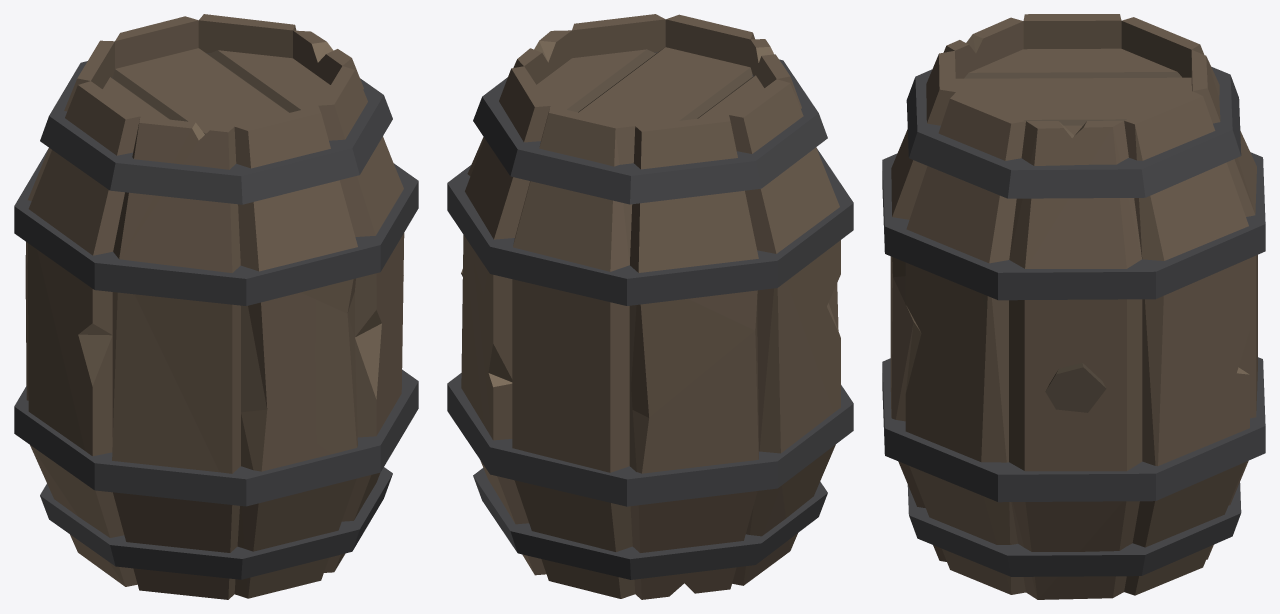
The model's file is SM_Prop_Barrel_04.glb.
3 renders of one model, left to right at view 1: azimuth 30°, elevation 25°; view 2: azimuth 150°, elevation 25°; view 3: azimuth 270°, elevation 25°, orthographic.
Parts seen in each view (by area): view 1: SM_Prop_Barrel_04; view 2: SM_Prop_Barrel_04; view 3: SM_Prop_Barrel_04.
Part boxes in pixels (left/top/right/bottom): SM_Prop_Barrel_04: left=14, top=14, right=418, bottom=599; SM_Prop_Barrel_04: left=447, top=14, right=853, bottom=599; SM_Prop_Barrel_04: left=882, top=14, right=1265, bottom=599.
Bounding box in the file's own units: 0.00619 × 0.00819 × 0.00603.
